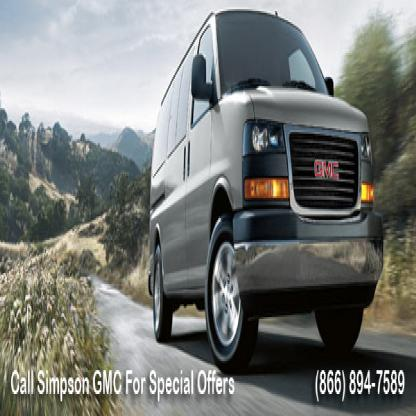Vehicle: (147, 13, 380, 372)
